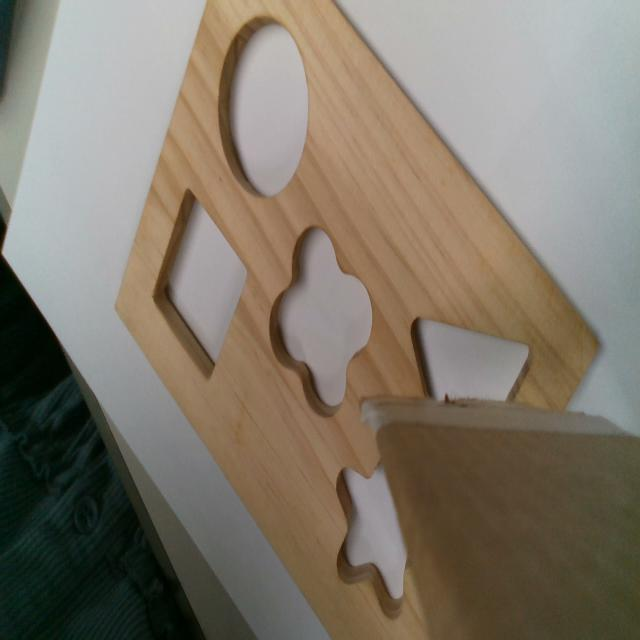circle: (216, 15, 310, 196)
flower: (269, 228, 373, 414)
square: (151, 185, 249, 381)
star: (337, 459, 410, 620)
triangle: (409, 314, 534, 405)
